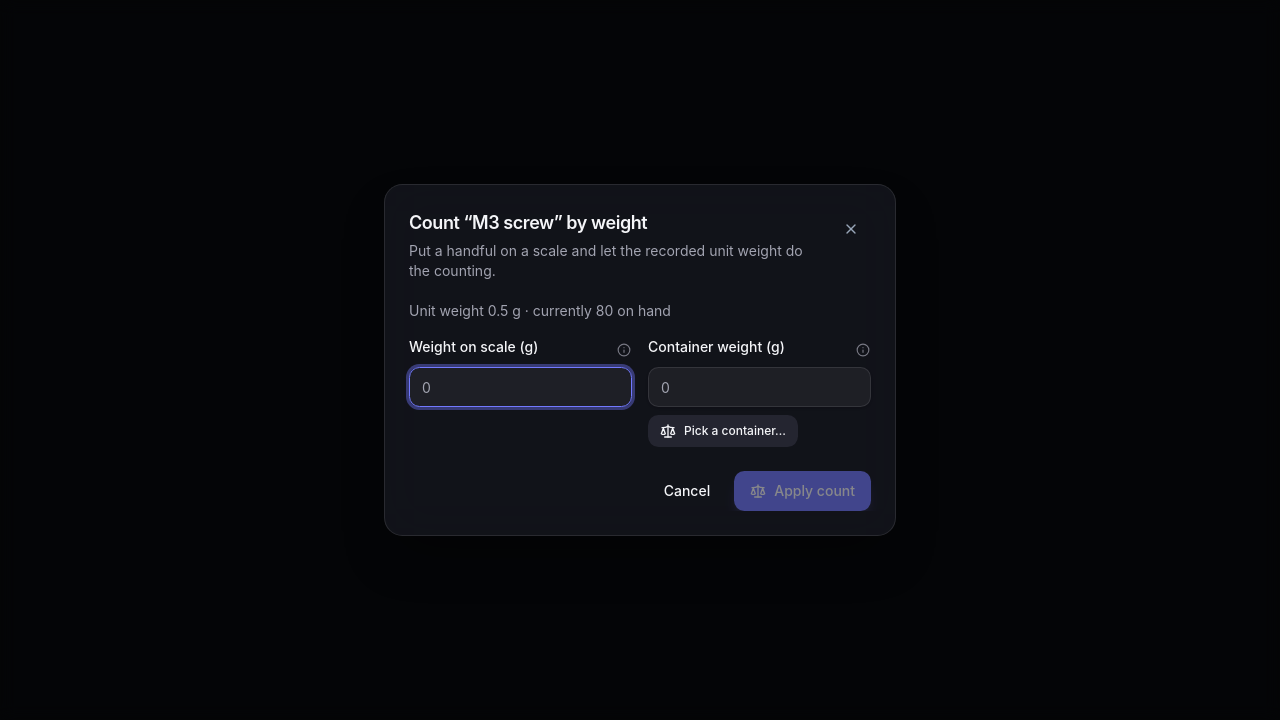
it: ScaleReadPanel (issue #122) › stays hidden when no bridge is configured, leaving manual entry untouched
Note: Manual entry still works exactly as before.
Type "43" into the field labelled "Weight on scale (g)" at (520, 387), box [409, 367, 632, 407]
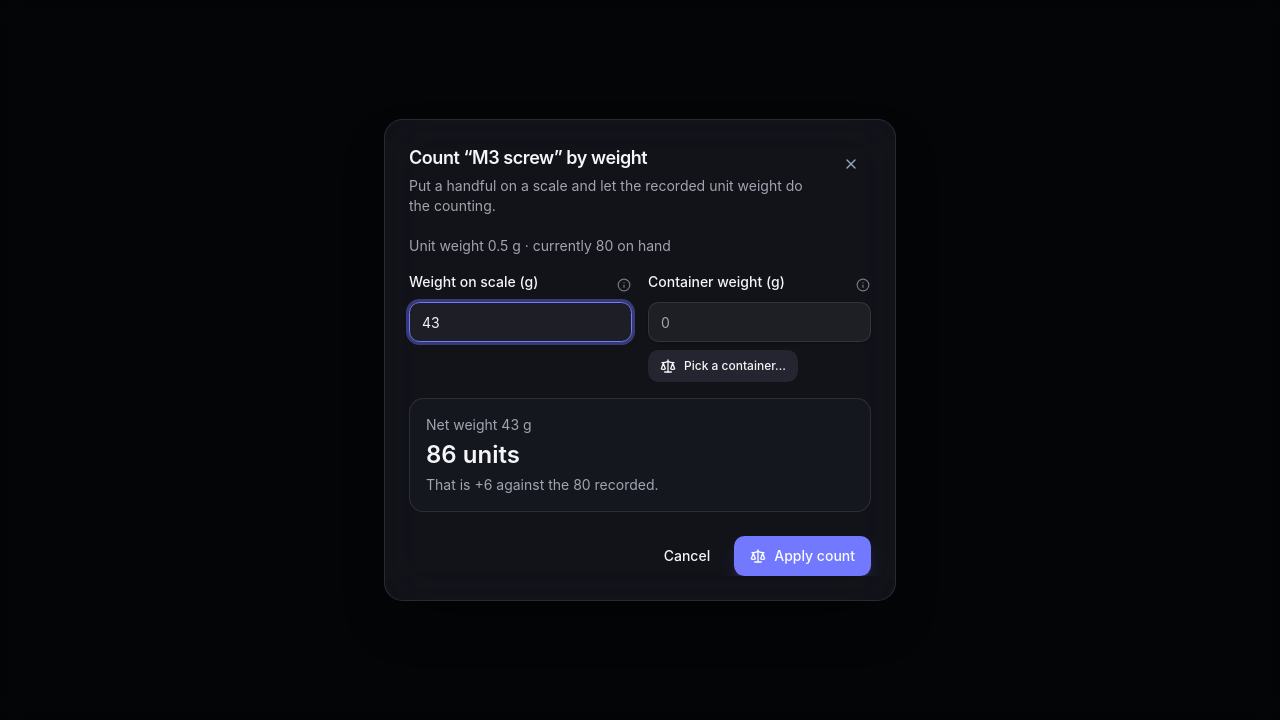
Check: the text with test id "weigh-count-result" reads "86 units", box [426, 440, 520, 469]
